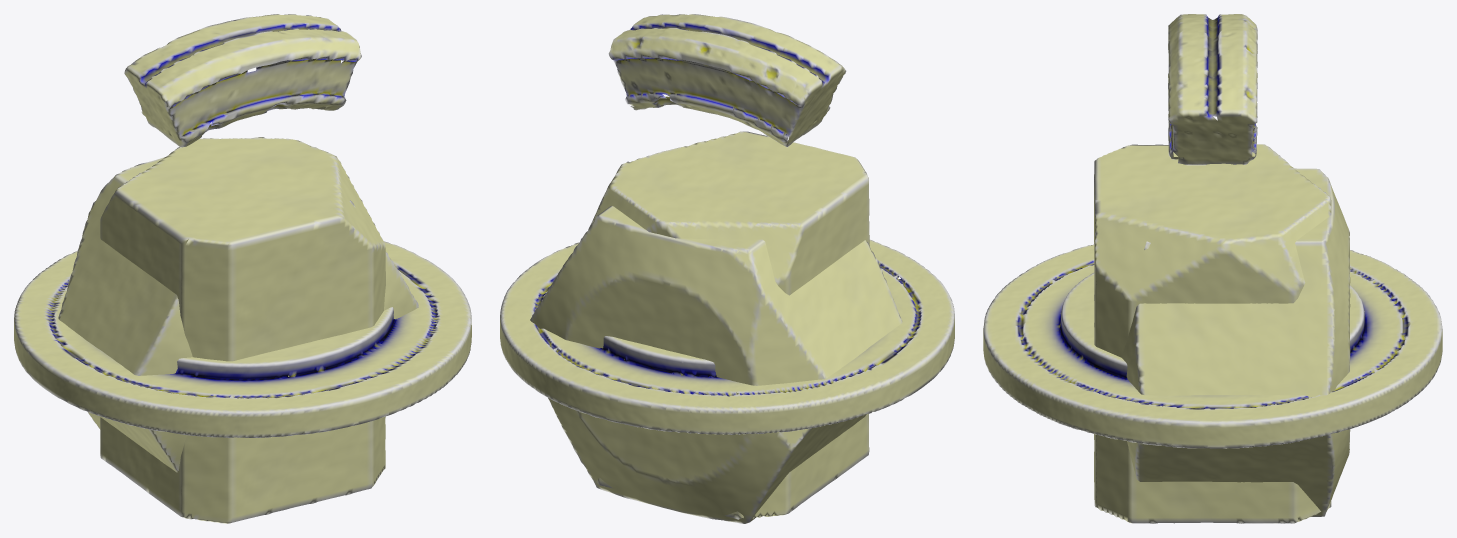
Rendered from exhibits.glb.
The picture shows the model from 3 angles, left to right: view 1: azimuth 30°, elevation 25°; view 2: azimuth 150°, elevation 25°; view 3: azimuth 270°, elevation 25°; orthographic projection.
Visible parts, largest first — view 1: engineering_shell, base, ring_segment, kensaku_shell; view 2: kensaku_shell, base, engineering_shell, ring_segment; view 3: engineering_shell, base, kensaku_shell, ring_segment.
Part boxes in pixels (<box>): engineering_shell: <box>100,138,385,523</box>; base: <box>14,241,471,437</box>; ring_segment: <box>124,14,361,147</box>; kensaku_shell: <box>58,137,418,472</box>; kensaku_shell: <box>530,206,902,523</box>; base: <box>500,239,954,434</box>; engineering_shell: <box>588,131,869,519</box>; ring_segment: <box>608,14,846,147</box>; engineering_shell: <box>1094,144,1331,523</box>; base: <box>983,244,1442,448</box>; kensaku_shell: <box>1122,168,1350,516</box>; ring_segment: <box>1168,14,1257,165</box>.
Bounding box in the file's own units: 6.2 × 6.53 × 6.2.
